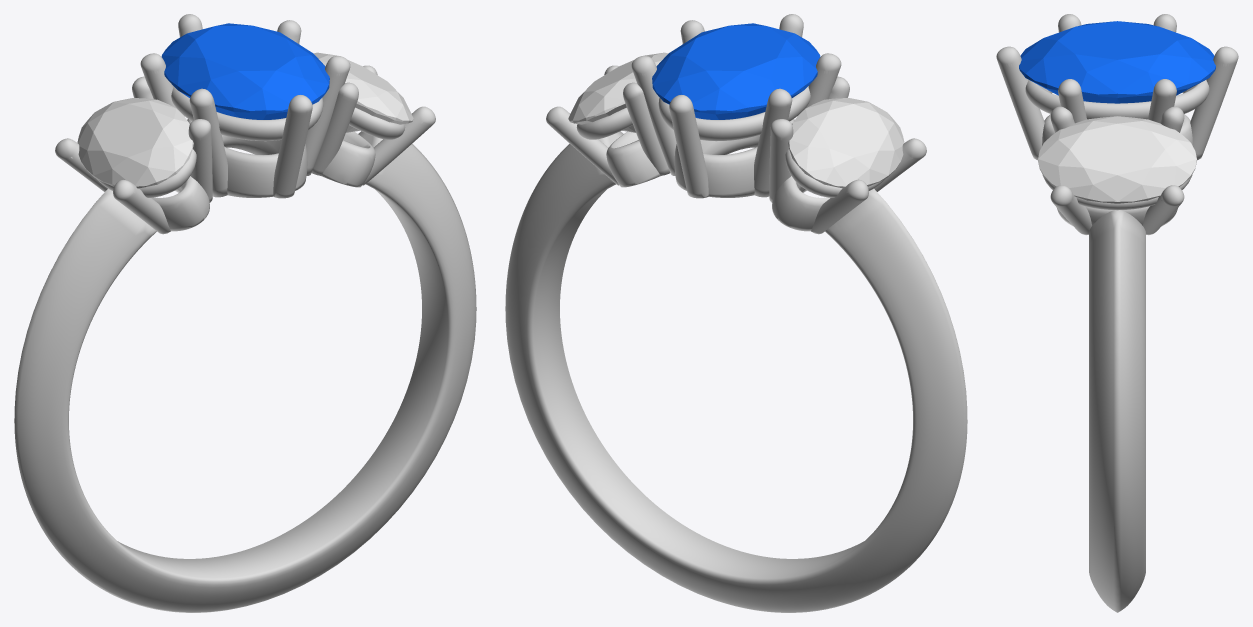
The model's file is bluesapphire-oval-platinum-6prong-knifeedge-3stone.glb.
The picture shows the model from 3 angles, left to right: view 1: azimuth 30°, elevation 25°; view 2: azimuth 150°, elevation 25°; view 3: azimuth 270°, elevation 25°; orthographic projection.
Parts seen in each view (by area): view 1: metal, stone.001, side.002, side.003; view 2: metal, stone.001, side.002, side.003; view 3: metal, stone.001, side.003.
Boxes of the visible parts, <box> form: metal: <box>14,14,476,612</box>; stone.001: <box>161,23,329,119</box>; side.002: <box>77,97,193,188</box>; side.003: <box>313,52,413,132</box>; metal: <box>505,14,967,612</box>; stone.001: <box>652,23,820,119</box>; side.002: <box>788,97,904,188</box>; side.003: <box>568,52,668,132</box>; metal: <box>996,14,1238,612</box>; stone.001: <box>1019,21,1215,103</box>; side.003: <box>1038,116,1196,203</box>.
Size of the model in its own units: 20.1 by 23.2 by 9.29.
